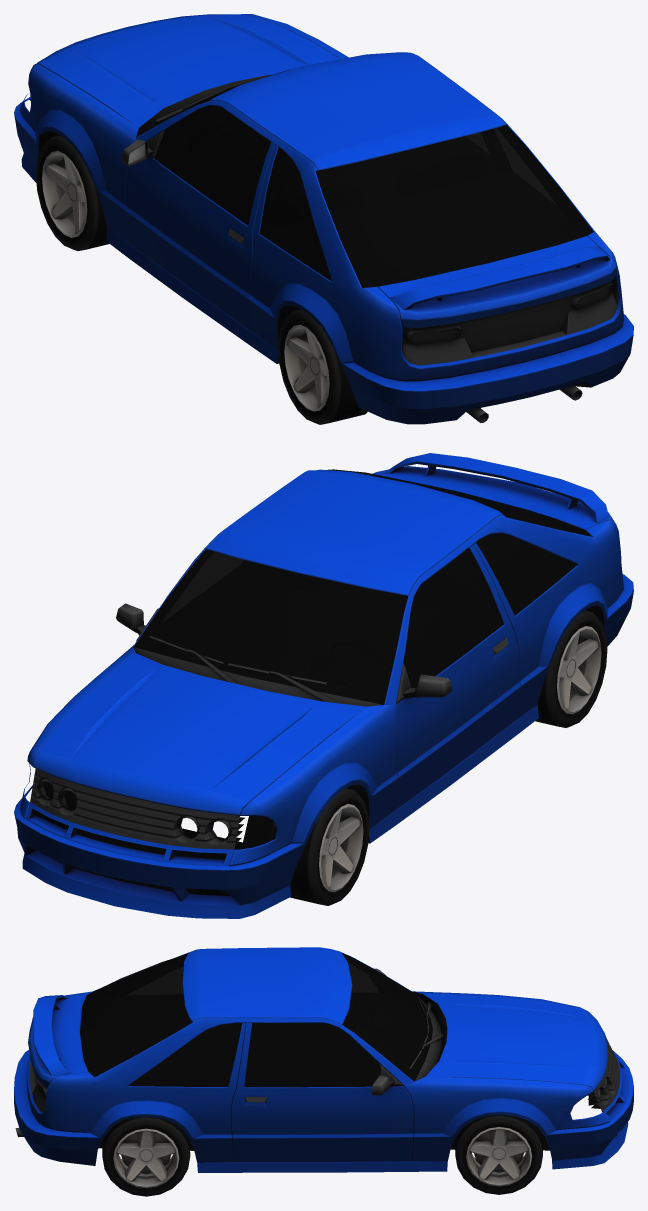
The model's file is Car4.glb.
3 views of the same model, one above another, from view 1: azimuth 30°, elevation 25°; view 2: azimuth 150°, elevation 25°; view 3: azimuth 270°, elevation 25° (orthographic). The views are drawn at different scales.
Visible parts, largest first — view 1: Wheel_F001_Wheel_0; view 2: Wheel_F001_Wheel_0; view 3: Wheel_F001_Wheel_0.
Boxes of the visible parts, x1,y1,x2,y2 form: Wheel_F001_Wheel_0: (14,14,633,424); Wheel_F001_Wheel_0: (14,453,633,918); Wheel_F001_Wheel_0: (14,947,633,1196).
Bounding box in the file's own units: 1.88 × 1.28 × 4.24.
3 materials, 2 textured.
